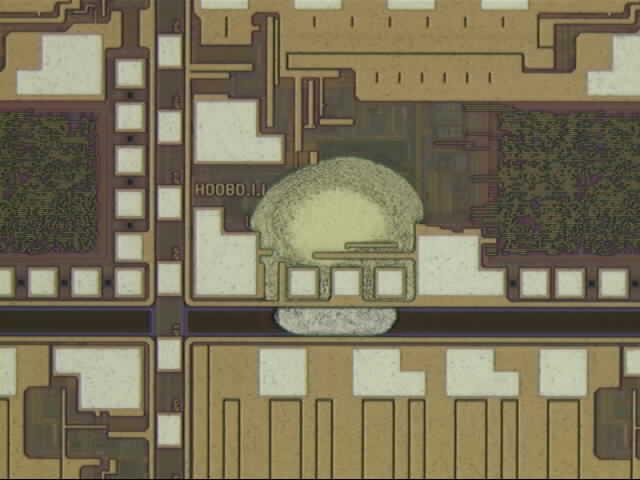BLOCK ETCH: (241, 149, 428, 347)
